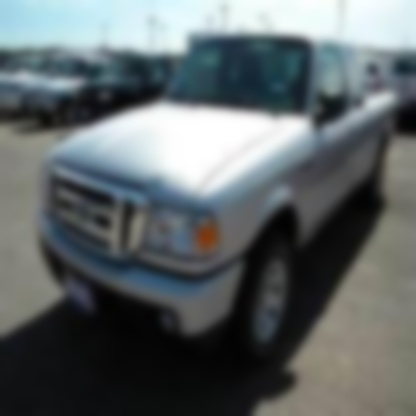Vehicle: (37, 37, 400, 366)
